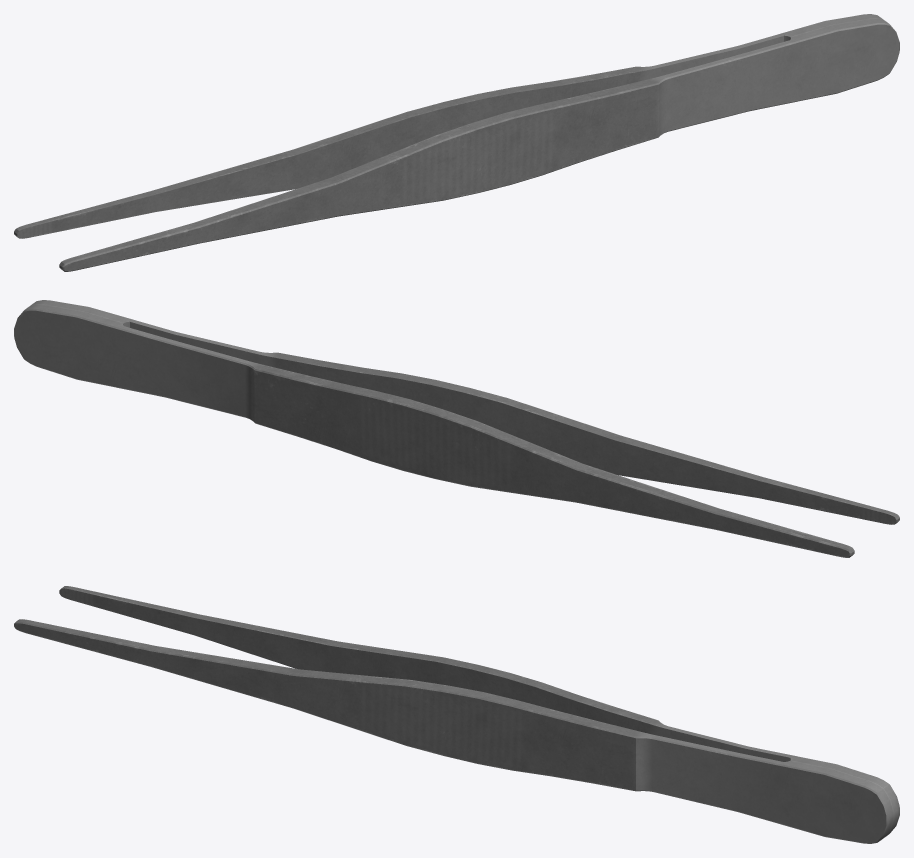
Rendered from tweezers.fbx.
3 renders of one model, top to bottom at view 1: azimuth 30°, elevation 25°; view 2: azimuth 150°, elevation 25°; view 3: azimuth 330°, elevation 25°, orthographic.
Visible parts, largest first — view 1: node_2e0495e0_6ea1_4022_9574_f5c27b5aedac_mesh0; view 2: node_2e0495e0_6ea1_4022_9574_f5c27b5aedac_mesh0; view 3: node_2e0495e0_6ea1_4022_9574_f5c27b5aedac_mesh0.
Boxes of the visible parts, x1,y1,x2,y2 form: node_2e0495e0_6ea1_4022_9574_f5c27b5aedac_mesh0: (14, 14, 899, 271); node_2e0495e0_6ea1_4022_9574_f5c27b5aedac_mesh0: (14, 300, 899, 557); node_2e0495e0_6ea1_4022_9574_f5c27b5aedac_mesh0: (14, 586, 899, 843).
Size of the model in its own units: 5727 by 429 by 577.
Materials: 1 (1 with a texture image).
